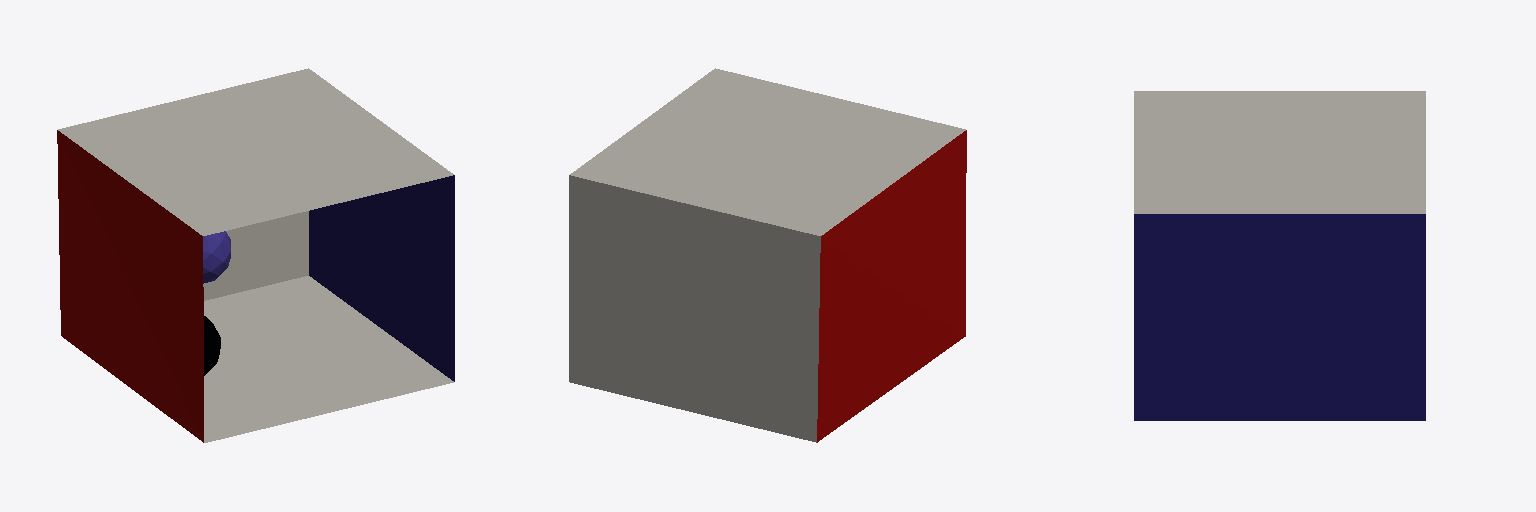
File: CornellBox-Sphere-49.obj
3 views of the same model, side by side, from view 1: azimuth 30°, elevation 25°; view 2: azimuth 150°, elevation 25°; view 3: azimuth 270°, elevation 25° (orthographic).
Visible parts, largest first — view 1: ceiling, leftWall, floor, rightWall, backWall, leftSphere, rightSphere; view 2: backWall, ceiling, leftWall; view 3: rightWall, ceiling.
Part boxes in pixels (x1,y1,x2,y2): ceiling: (58, 68, 453, 235); leftWall: (57, 130, 203, 442); floor: (204, 276, 453, 442); rightWall: (309, 175, 454, 381); backWall: (203, 211, 308, 300); leftSphere: (203, 231, 230, 283); rightSphere: (204, 316, 220, 375); backWall: (569, 175, 820, 442); ceiling: (570, 68, 965, 235); leftWall: (817, 130, 966, 442); rightWall: (1134, 214, 1425, 420); ceiling: (1134, 91, 1425, 213).
Bounding box in the file's own units: 2.02 × 1.59 × 2.03.